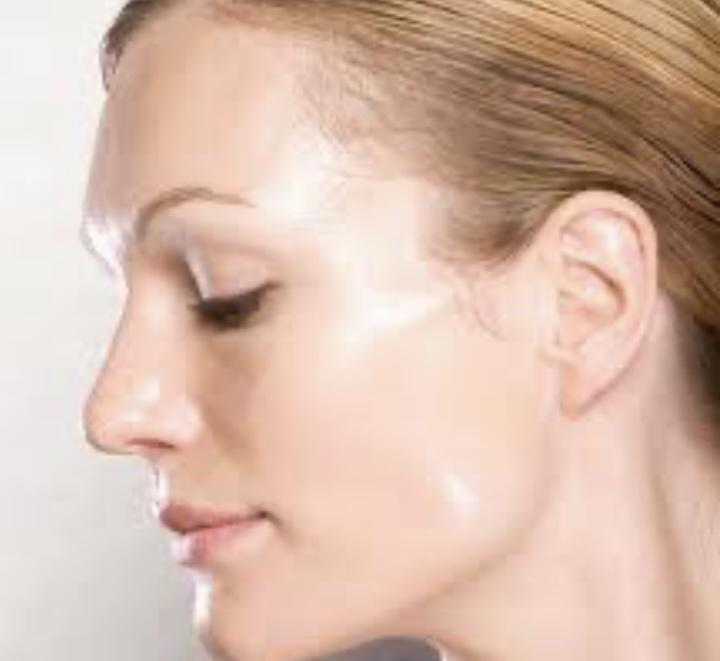Oily-Skin: (247, 92, 378, 305), (293, 338, 418, 545), (98, 320, 230, 477), (428, 347, 500, 568), (93, 112, 222, 195)
